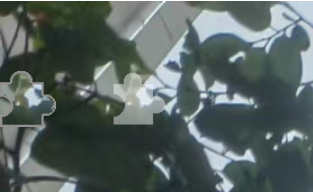target: (104, 68, 169, 131)
